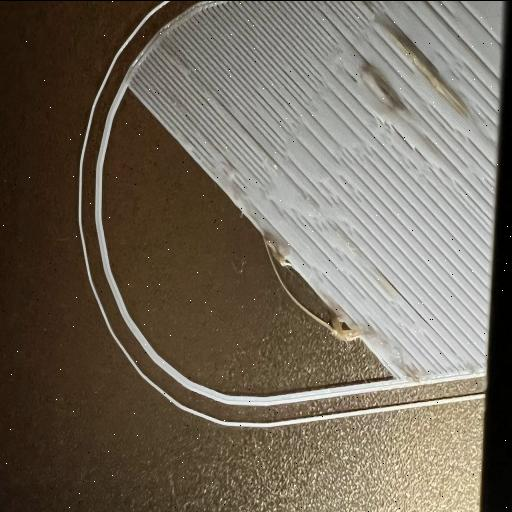blobs: (325, 316, 369, 346), (266, 242, 290, 270)
